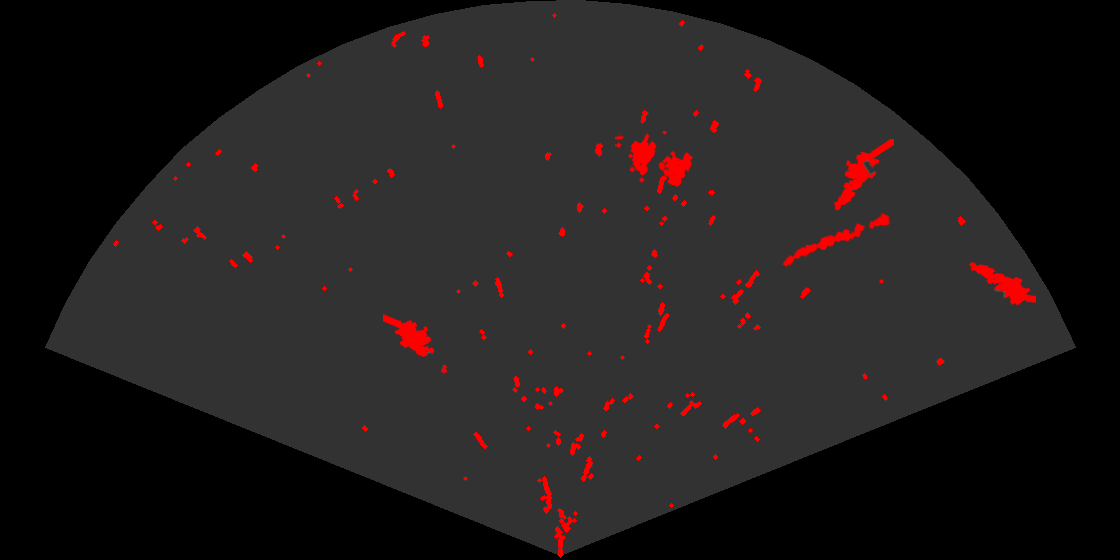cage: (615, 131, 695, 188)
chain: (781, 211, 892, 268)
frogman: (832, 139, 894, 212), (383, 313, 449, 375), (967, 261, 1036, 307)
